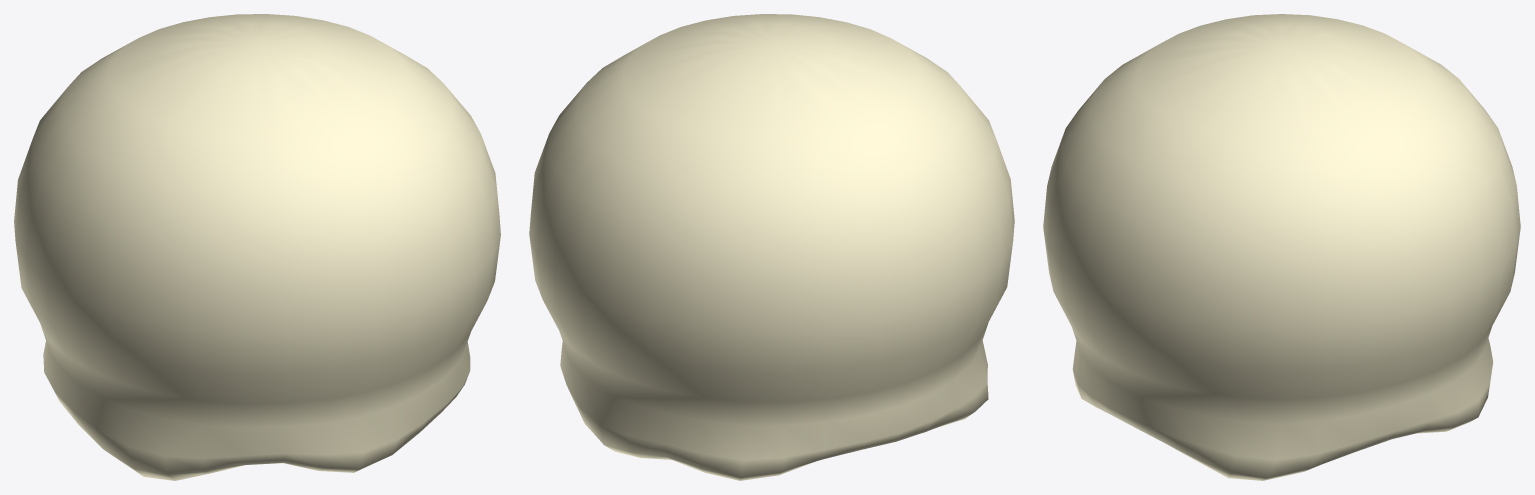
File: Ice Cream Melted White.fbx
3 views of the same model, side by side, from view 1: azimuth 30°, elevation 25°; view 2: azimuth 150°, elevation 25°; view 3: azimuth 270°, elevation 25° (orthographic). The views are drawn at different scales.
Parts seen in each view (by area): view 1: Ice Cream Melted White; view 2: Ice Cream Melted White; view 3: Ice Cream Melted White.
Part boxes in pixels (<box>): Ice Cream Melted White: <box>14,14,500,480</box>; Ice Cream Melted White: <box>529,14,1014,480</box>; Ice Cream Melted White: <box>1043,14,1520,480</box>.
Bounding box in the file's own units: 0.4884 × 0.3979 × 0.4884.
